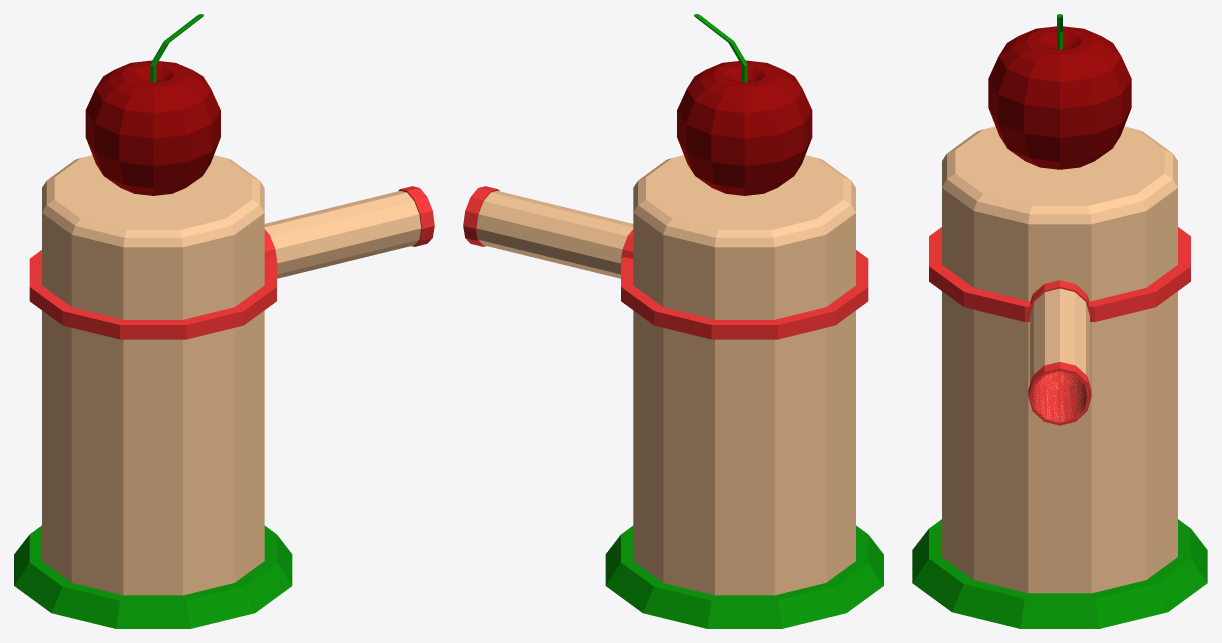
The model's file is tower.dae.
The picture shows the model from 3 angles, left to right: view 1: azimuth 30°, elevation 25°; view 2: azimuth 150°, elevation 25°; view 3: azimuth 270°, elevation 25°; orthographic projection. The views are drawn at different scales.
Visible parts, largest first — view 1: group_0, group_1, ball, group_11, base, group_5, group_2, group_9; view 2: group_0, group_1, ball, group_11, base, group_5, group_2, group_9; view 3: group_0, group_1, ball, group_11 (×2), base, group_5 (×2), group_2, group_9.
Part boxes in pixels (<box>): group_0: <box>42,310,264,595</box>; group_1: <box>42,213,264,319</box>; ball: <box>85,60,220,195</box>; group_11: <box>42,155,264,247</box>; base: <box>14,525,292,628</box>; group_5: <box>264,191,421,278</box>; group_2: <box>29,250,276,339</box>; group_9: <box>398,186,434,246</box>; group_0: <box>633,310,855,595</box>; group_1: <box>633,213,855,319</box>; ball: <box>677,60,812,195</box>; group_11: <box>633,155,855,247</box>; base: <box>605,525,883,628</box>; group_5: <box>476,191,633,278</box>; group_2: <box>621,250,868,339</box>; group_9: <box>463,186,499,246</box>; group_0: <box>942,291,1177,593</box>; group_1: <box>942,188,1177,301</box>; ball: <box>988,26,1131,169</box>; group_11 (×2): <box>942,126,1177,224</box>; base: <box>912,519,1207,628</box>; group_5 (×2): <box>1030,288,1089,422</box>; group_2: <box>929,227,1190,321</box>; group_9: <box>1028,362,1091,425</box>.
Size of the model in its own units: 54.98 by 34.23 by 73.7.
